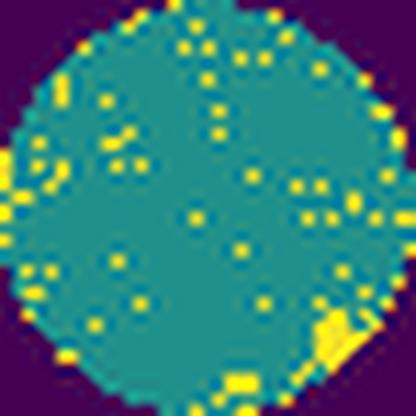Edge-Loc: (312, 301, 387, 378)
